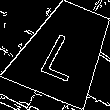L_NE: (36, 22, 93, 81)
